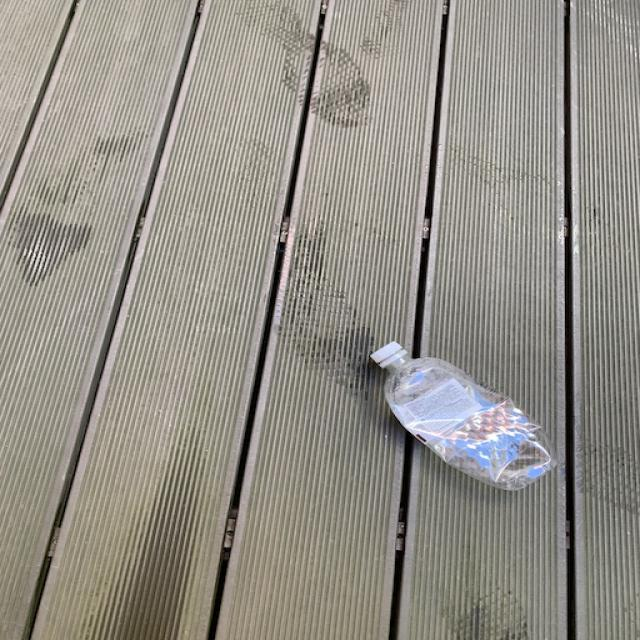Waste: (371, 342, 556, 491)
